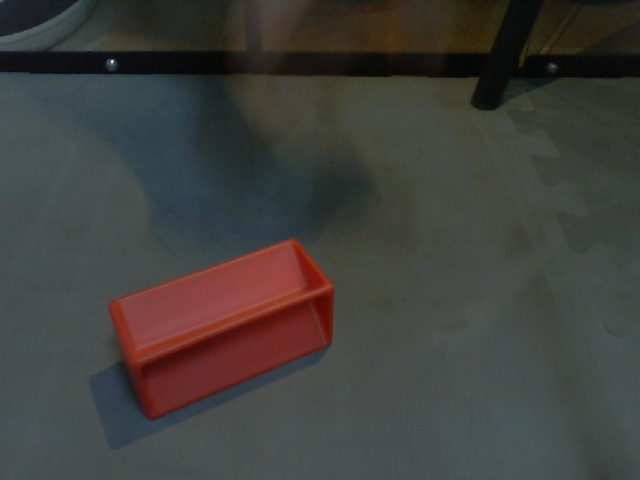RedSample: (105, 235, 338, 421)
